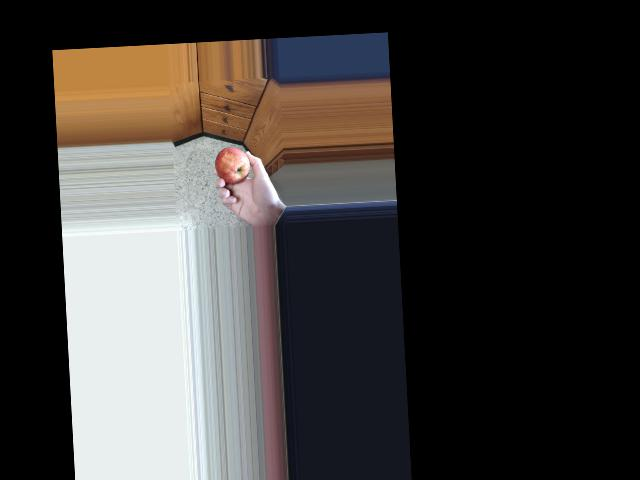apple: (213, 144, 257, 195)
